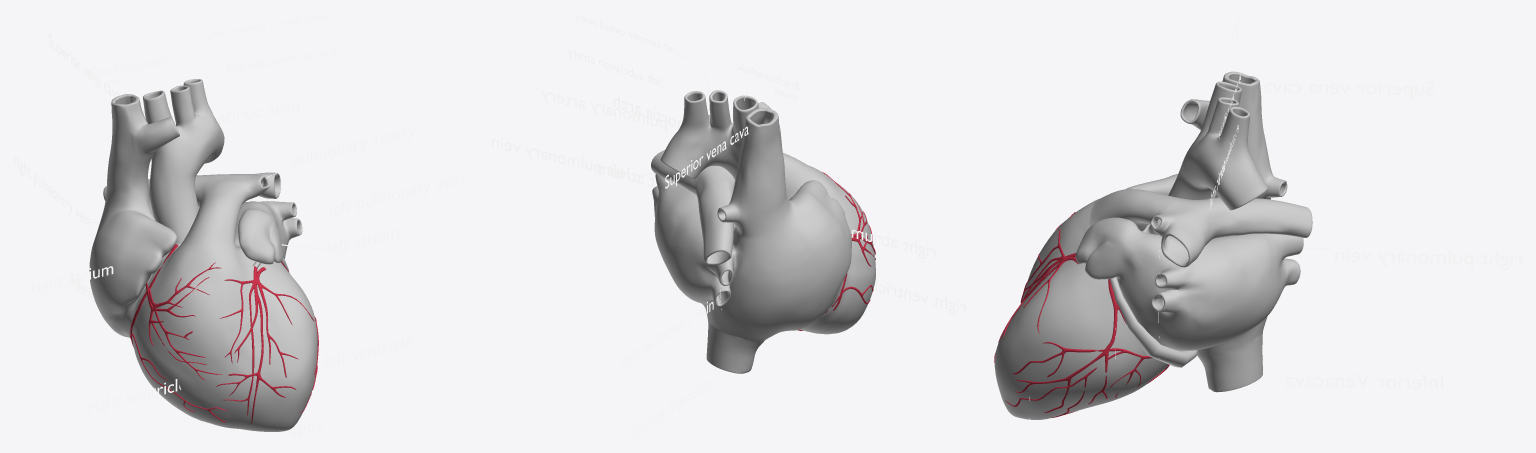
The model's file is Hearts.gltf.
The picture shows the model from 3 angles, left to right: view 1: azimuth 30°, elevation 25°; view 2: azimuth 150°, elevation 25°; view 3: azimuth 270°, elevation 25°; orthographic projection. The views are drawn at different scales.
Parts seen in each view (by area): view 1: Heart human N080722, Heart human N080722.001, Text.003, Text.004, Text.008, Text.009, Text.007, Text.005; view 2: Heart human N080722, Heart human N080722.001, Text.003, Text.004, Text.005, Text.009, Text.007, Text.001; view 3: Heart human N080722, Heart human N080722.001, Text.005, Text.001, Text.
Boxes of the visible parts, x1,y1,x2,y2 form: Heart human N080722: [89, 79, 317, 431]; Heart human N080722.001: [130, 244, 318, 423]; Text.003: [330, 174, 463, 216]; Text.004: [293, 128, 414, 170]; Text.008: [325, 336, 411, 367]; Text.009: [89, 379, 181, 413]; Text.007: [31, 266, 113, 295]; Text.005: [14, 157, 89, 227]; Heart human N080722: [651, 90, 875, 373]; Heart human N080722.001: [797, 172, 875, 330]; Text.003: [492, 137, 628, 179]; Text.004: [542, 90, 666, 133]; Text.005: [621, 301, 713, 368]; Text.009: [875, 279, 965, 314]; Text.007: [851, 229, 935, 258]; Text.001: [665, 126, 748, 188]; Heart human N080722: [994, 71, 1312, 419]; Heart human N080722.001: [994, 212, 1169, 417]; Text.005: [1335, 248, 1521, 269]; Text.001: [1263, 81, 1434, 99]; Text: [1285, 373, 1442, 388].
Size of the model in its own units: 0.6086 by 0.4405 by 0.5722.
